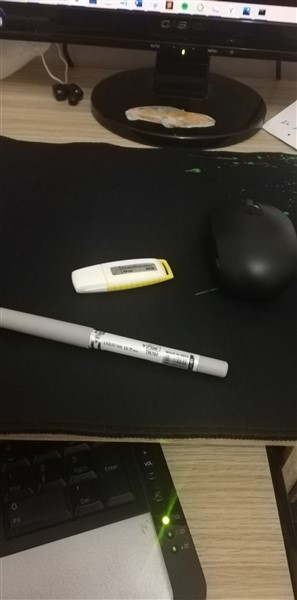flash disk: (68, 253, 185, 301)
klavye: (1, 410, 207, 598)
mouse: (203, 192, 297, 312)
pilot kalem: (2, 299, 235, 387)
